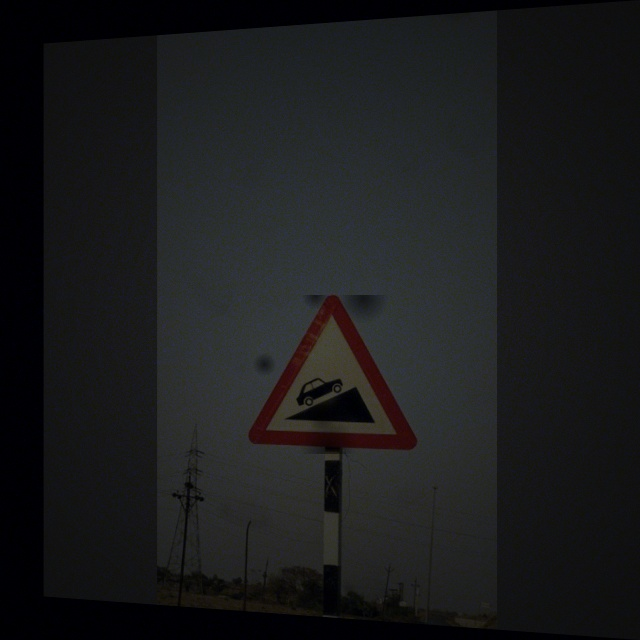Steep_Ascent: (250, 295, 418, 454)
